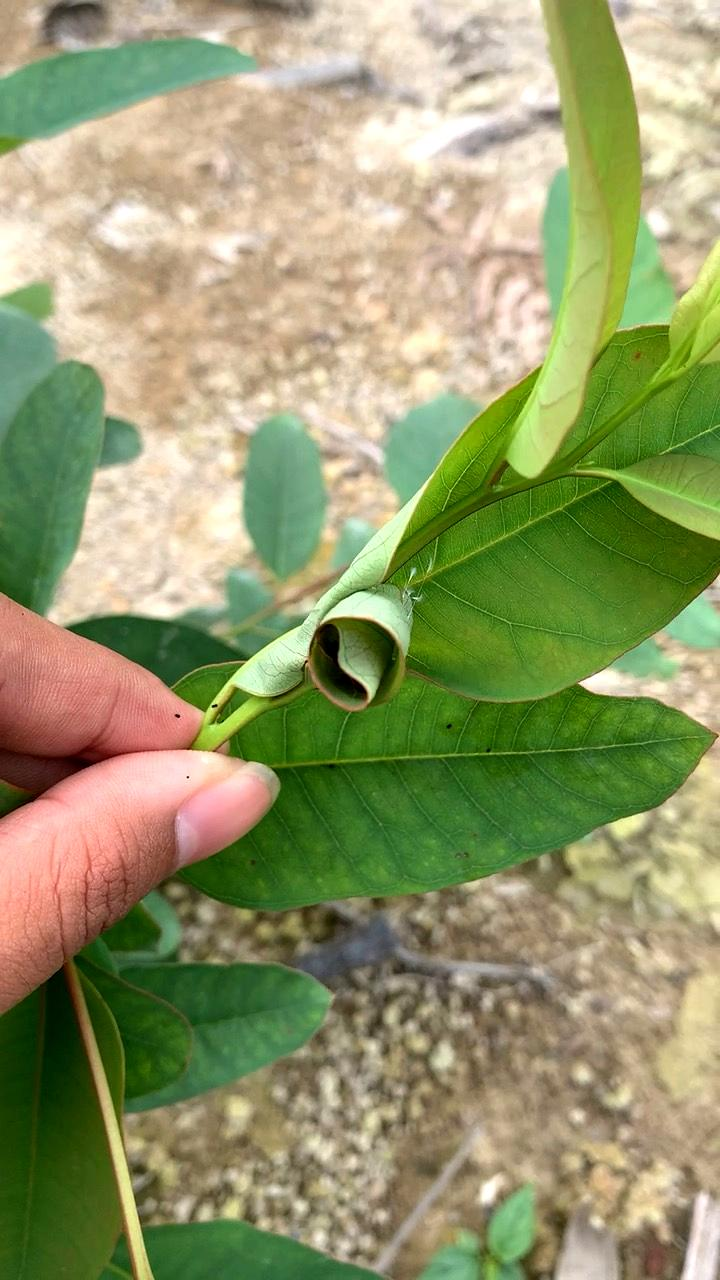Leaf Roller - Leaf: (271, 561, 459, 736)
